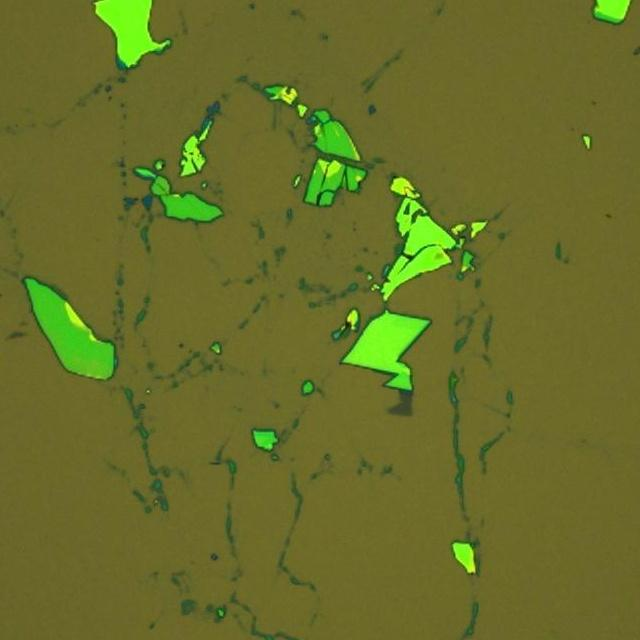monolayer-eWW4: (387, 393, 412, 416)
